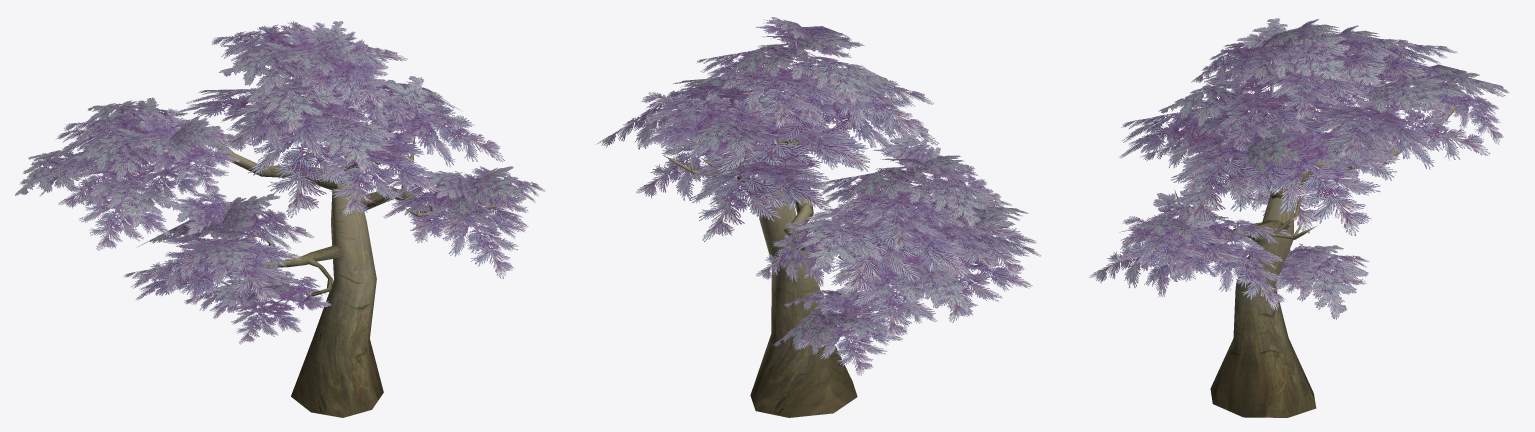
File: SJZC_plant_01.FBX
3 views of the same model, side by side, from view 1: azimuth 30°, elevation 25°; view 2: azimuth 150°, elevation 25°; view 3: azimuth 270°, elevation 25° (orthographic). The views are drawn at different scales.
Parts seen in each view (by area): view 1: SJZC_plant_01_a, SJZC_plant_01_b; view 2: SJZC_plant_01_a, SJZC_plant_01_b; view 3: SJZC_plant_01_a, SJZC_plant_01_b.
Boxes of the visible parts, left/top/right/bottom form: SJZC_plant_01_a: left=15, top=21, right=544, bottom=344; SJZC_plant_01_b: left=210, top=136, right=498, bottom=417; SJZC_plant_01_a: left=596, top=17, right=1040, bottom=375; SJZC_plant_01_b: left=663, top=130, right=858, bottom=417; SJZC_plant_01_a: left=1089, top=18, right=1509, bottom=319; SJZC_plant_01_b: left=1155, top=100, right=1460, bottom=417.
Size of the model in its own units: 1513 by 1242 by 1330.
